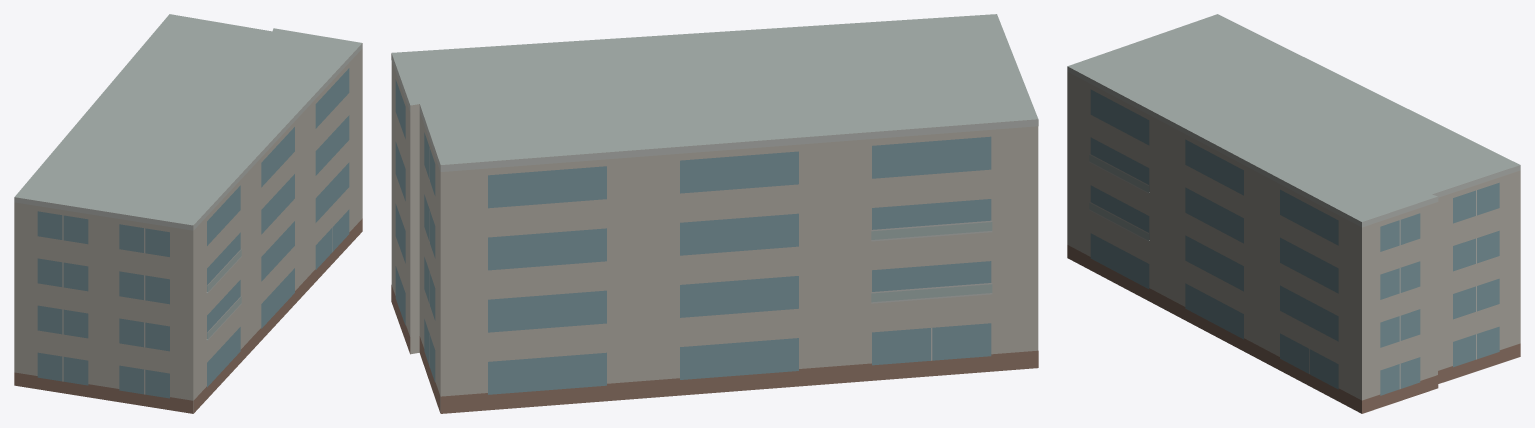
Rendered from survey-upis-32586207.glb.
The picture shows the model from 3 angles, left to right: view 1: azimuth 30°, elevation 25°; view 2: azimuth 150°, elevation 25°; view 3: azimuth 270°, elevation 25°; orthographic projection. The views are drawn at different scales.
Visible parts, largest first — view 1: survey-upis-32586207.tmp; view 2: survey-upis-32586207.tmp; view 3: survey-upis-32586207.tmp.
Part boxes in pixels (x1,y1,x2,y2): survey-upis-32586207.tmp: [14, 14, 362, 413]; survey-upis-32586207.tmp: [391, 14, 1038, 413]; survey-upis-32586207.tmp: [1067, 14, 1520, 413].
Size of the model in its own units: 20.26 by 8.7 by 18.64.
